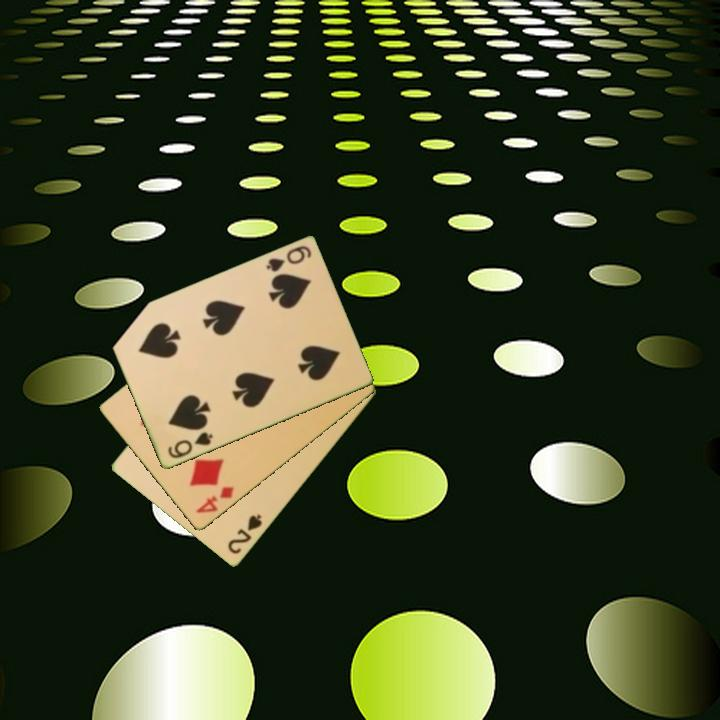2s: (224, 511, 265, 557)
4d: (192, 483, 237, 517)
6s: (164, 429, 216, 462), (262, 242, 314, 275)
